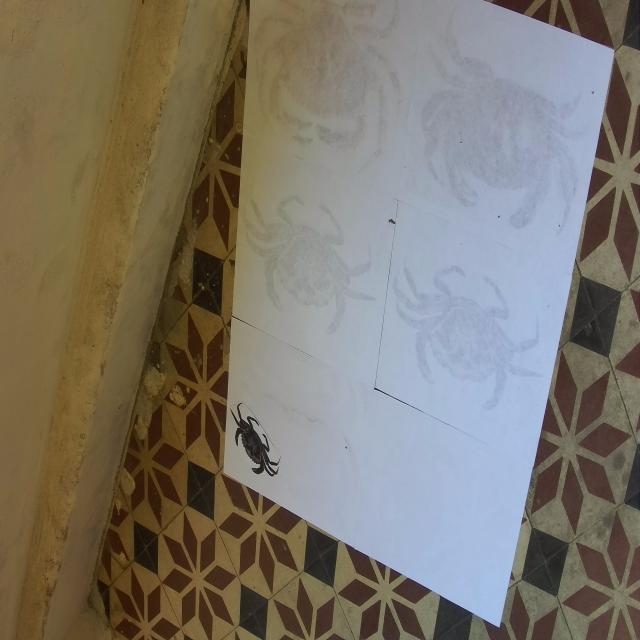European_Green_Crab: (222, 392, 284, 495)
